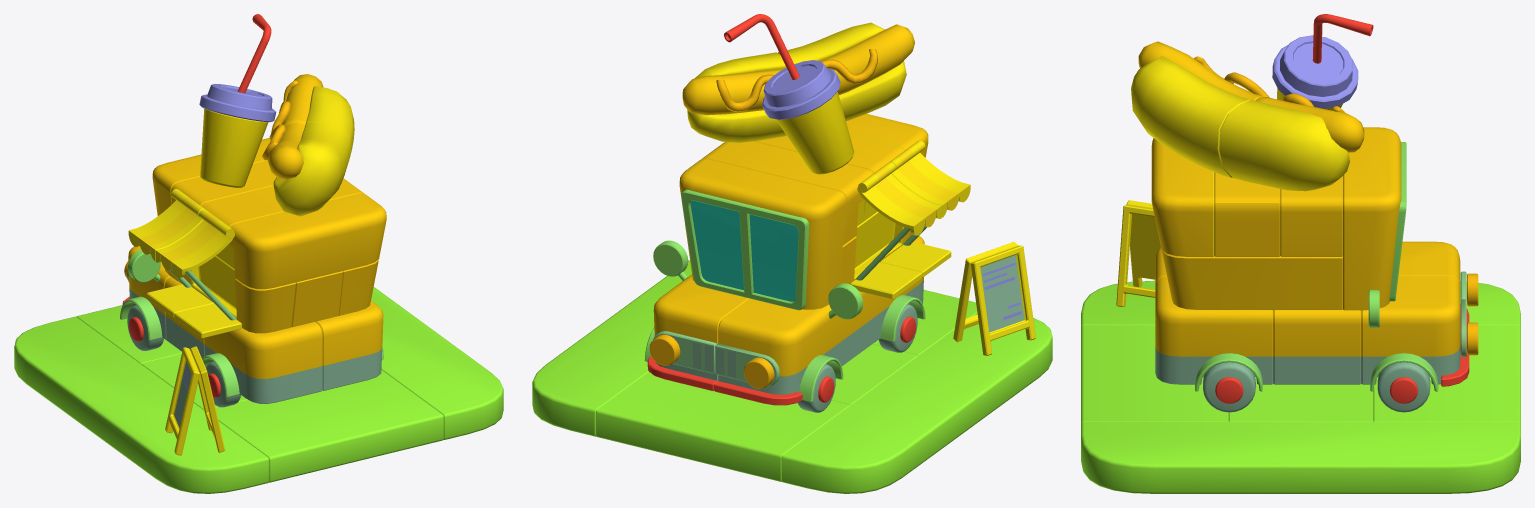
File: level_164.fbx
3 renders of one model, left to right at view 1: azimuth 30°, elevation 25°; view 2: azimuth 150°, elevation 25°; view 3: azimuth 270°, elevation 25°, orthographic. The views are drawn at different scales.
Parts seen in each view (by area): view 1: Cube_L3_1, Cube_L3_5, Cube_L2_26, Cube_L3_2, Cube_L2_24, Cube_L1_3, Cube_L2_23, Cube_L2_17, Cube_L1_1, Cube_L1_2, Cube_L3_4, Cube_L2_21 (+16 smaller); view 2: Cube_L3_1, Cube_L2_8, Cube_L3, Cube_L3_2, Cube_L2_4, Cube_L1_3, Cube_L1_2, Cube_L3_4, Cube_L2_5, Cube_L2_13, Cube_L1, Cube_L1_1 (+19 smaller); view 3: Cube_L3_2, Cube_L1_2, Cube_L2_8, Cube_L1_3, Cube_L3_5, Cube_L2_15, Cube_L2_5, Cube_L2_23, Cube_L3, Cube_L2_12, Cube_L2_26, Cube_L1 (+8 smaller).
Part boxes in pixels (x1,y1,x2,y2): Cube_L3_1: (14,316,268,493); Cube_L3_5: (215,370,443,482); Cube_L2_26: (229,193,386,289); Cube_L3_2: (371,287,503,439); Cube_L2_24: (202,322,322,403); Cube_L1_3: (262,122,350,216); Cube_L2_23: (315,300,383,390); Cube_L2_17: (179,256,295,333); Cube_L1_1: (200,108,268,187); Cube_L1_2: (271,74,354,154); Cube_L3_4: (165,346,224,455); Cube_L2_21: (156,209,236,320); Cube_L3_1: (781,313,1052,493); Cube_L2_8: (679,158,846,310); Cube_L3: (596,372,849,481); Cube_L3_2: (532,260,691,436); Cube_L2_4: (714,298,843,405); Cube_L1_3: (778,22,914,121); Cube_L1_2: (682,52,786,142); Cube_L3_4: (953,241,1035,355); Cube_L2_5: (644,274,749,390); Cube_L2_13: (701,141,873,245); Cube_L1: (724,14,840,119); Cube_L1_1: (776,91,854,174); Cube_L3_2: (1081,421,1520,493); Cube_L1_2: (1219,93,1364,191); Cube_L2_8: (1343,127,1406,310); Cube_L1_3: (1131,41,1269,177); Cube_L3_5: (1081,325,1228,423); Cube_L2_15: (1161,247,1342,310); Cube_L2_5: (1361,276,1469,391); Cube_L2_23: (1155,276,1273,391); Cube_L3: (1373,325,1520,423); Cube_L2_12: (1273,309,1361,384); Cube_L2_26: (1151,138,1214,256); Cube_L1: (1272,14,1373,108).
Bounding box in the file's own units: 13.48 × 13.48 × 13.48.
